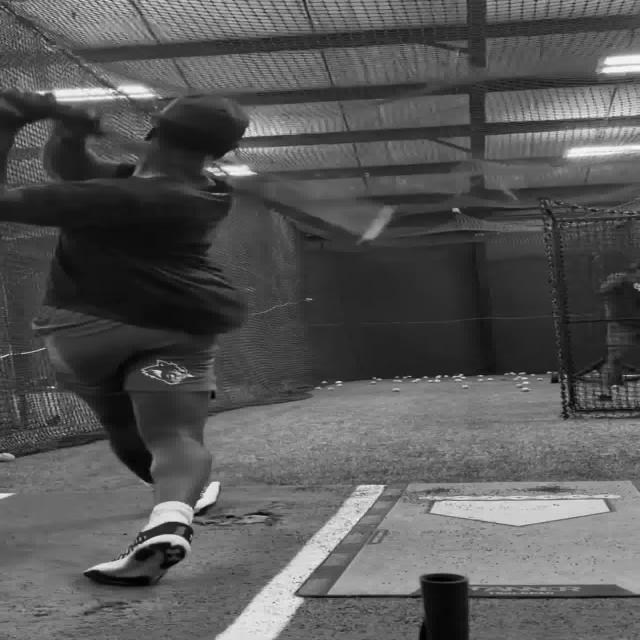base: (430, 497, 617, 525)
baseball: (0, 452, 15, 462), (450, 204, 460, 213)
shoe: (82, 521, 193, 586), (147, 480, 221, 515), (192, 481, 220, 515)
